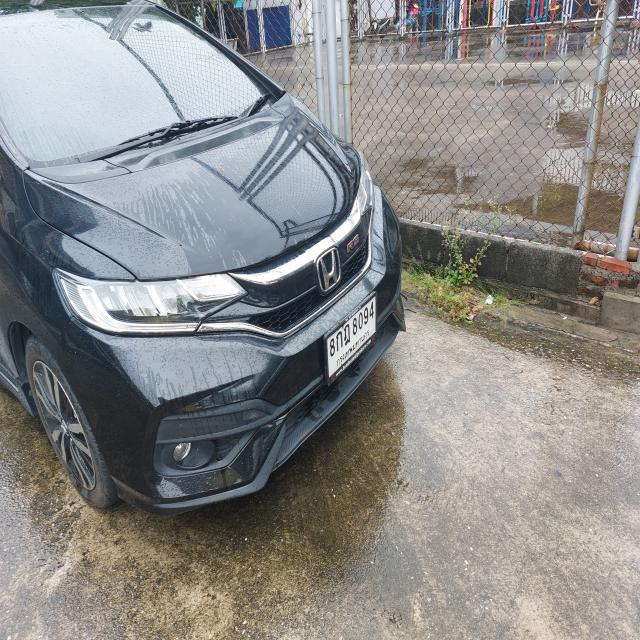license_plate: (319, 289, 382, 390)
